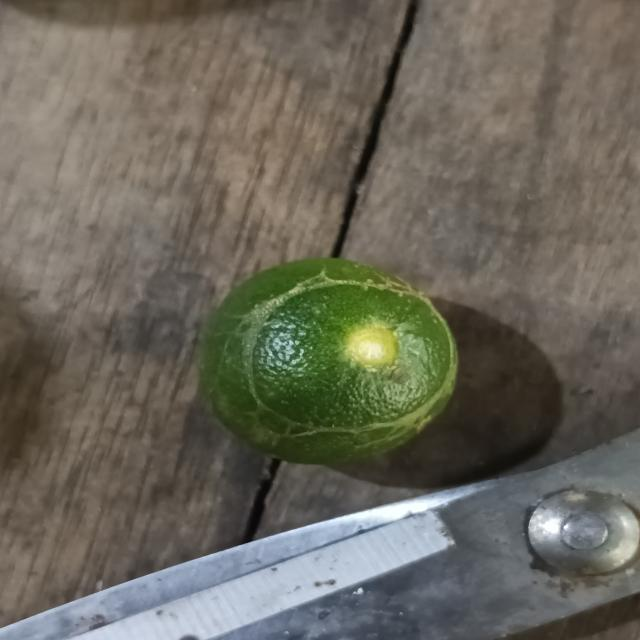thrips: (192, 252, 462, 469)
